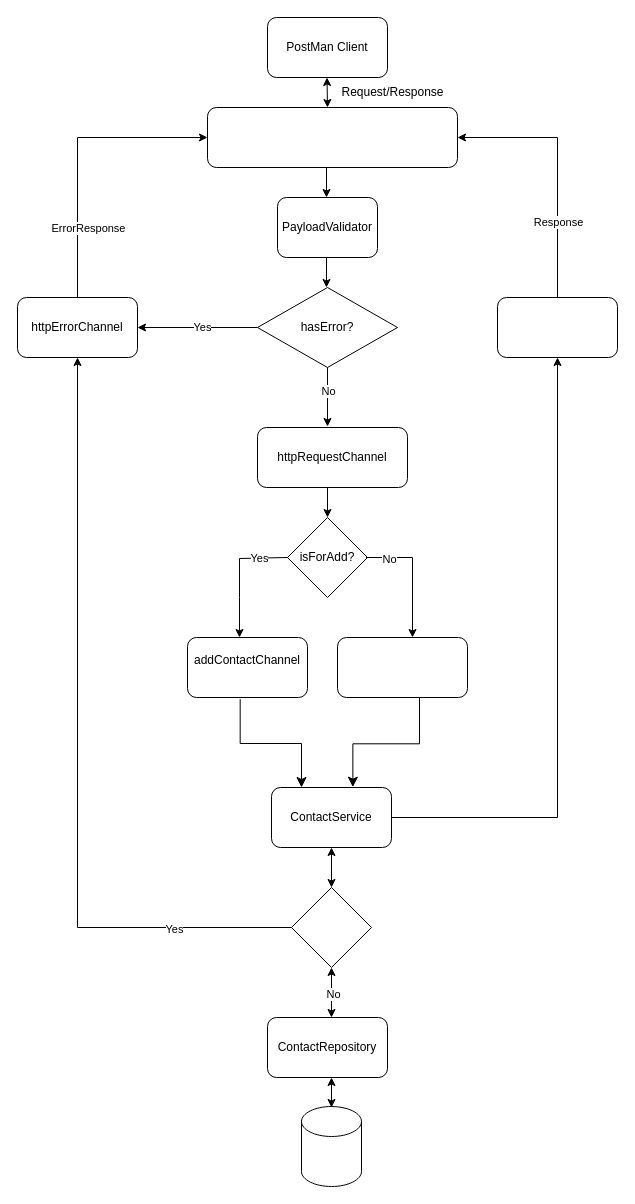
Some shapes in this 635 by 1204 pixel diagram are drawn without their labels. The centre of each missing label's shape, as x and y in pixels:
"gatewayForAddAndUpdateContact" belongs at point (332, 137).
"H2 DB" belongs at point (331, 1146).
"hasError" belongs at point (331, 927).
"httpReplyChannel" belongs at point (557, 327).
"updateContactChannel" belongs at point (402, 667).
